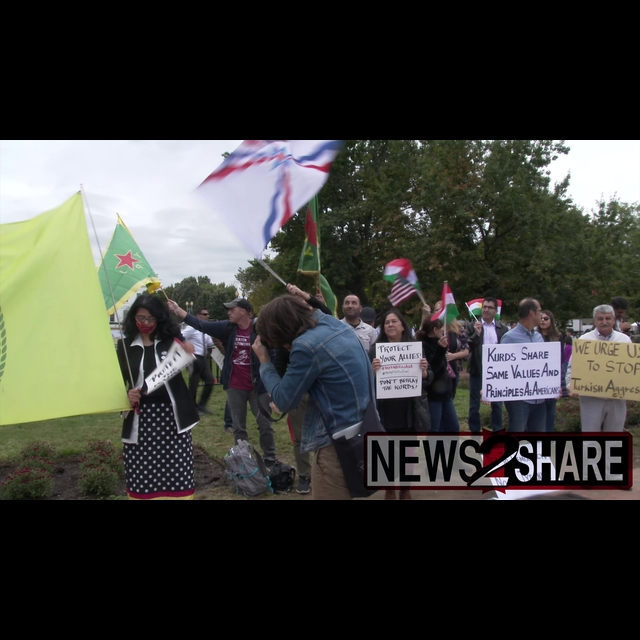YPJ: (111, 242, 147, 282)
